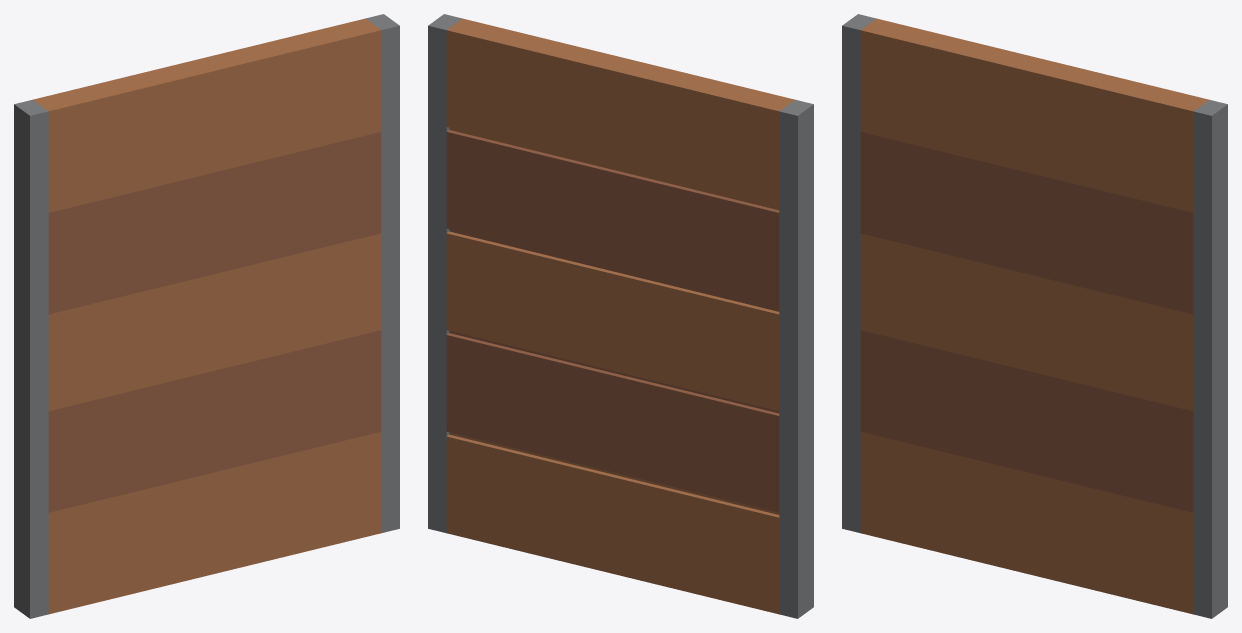
The model's file is elevator_01_M_int.glb.
3 renders of one model, left to right at view 1: azimuth 30°, elevation 25°; view 2: azimuth 150°, elevation 25°; view 3: azimuth 330°, elevation 25°, orthographic.
Parts seen in each view (by area): view 1: Untitled; view 2: Untitled; view 3: Untitled.
Boxes of the visible parts, x1,y1,x2,y2 form: Untitled: (14, 14, 399, 618); Untitled: (428, 14, 813, 618); Untitled: (842, 14, 1227, 618).
Size of the model in its own units: 2.4 by 3.12 by 0.18.
Materials: 1 (1 with a texture image).
